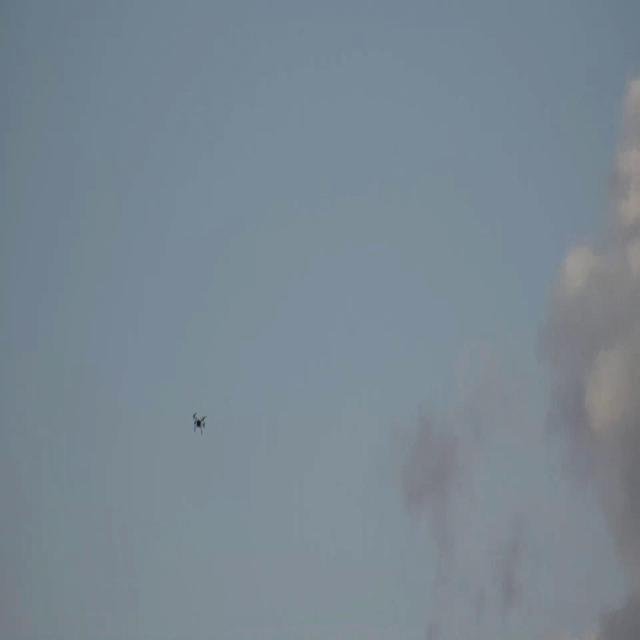drone: (188, 410, 214, 442)
